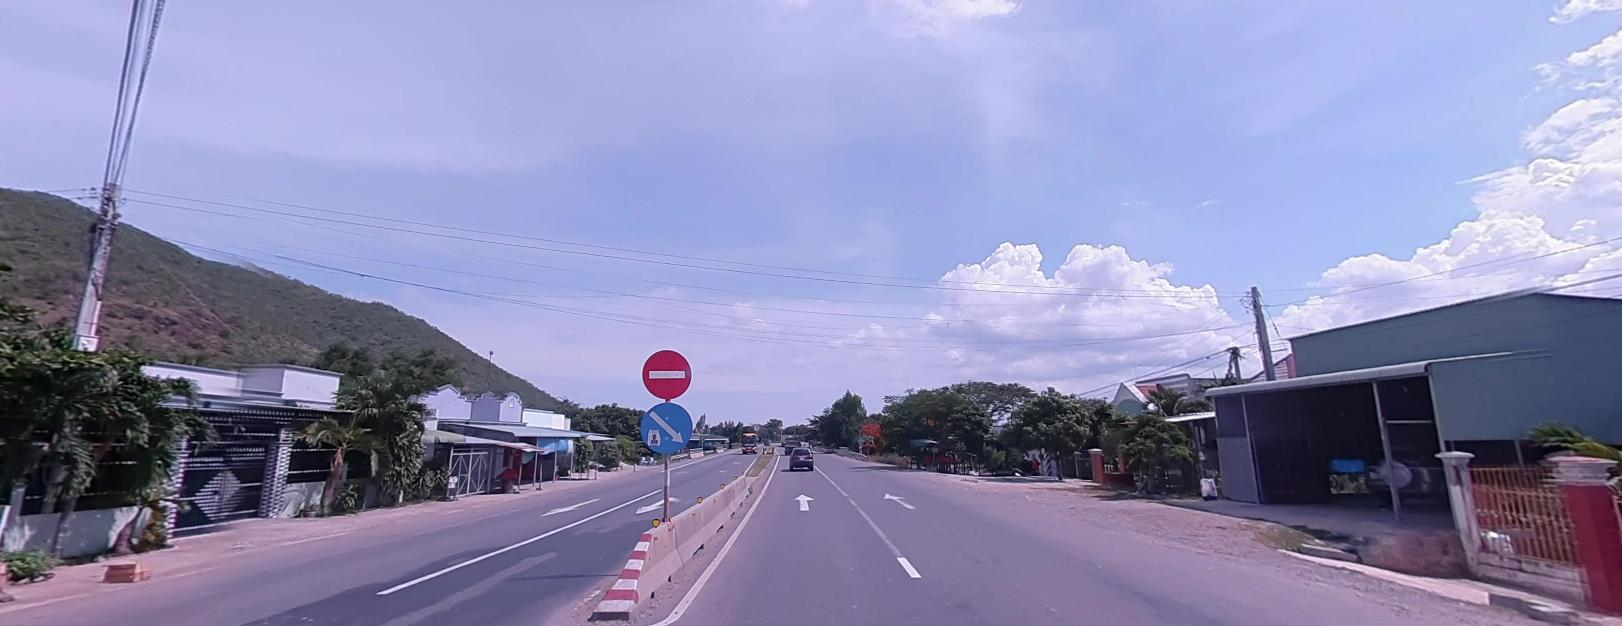Cam nguoc chieu: (641, 342, 692, 399)
Hieu lenh: (639, 398, 693, 457)
